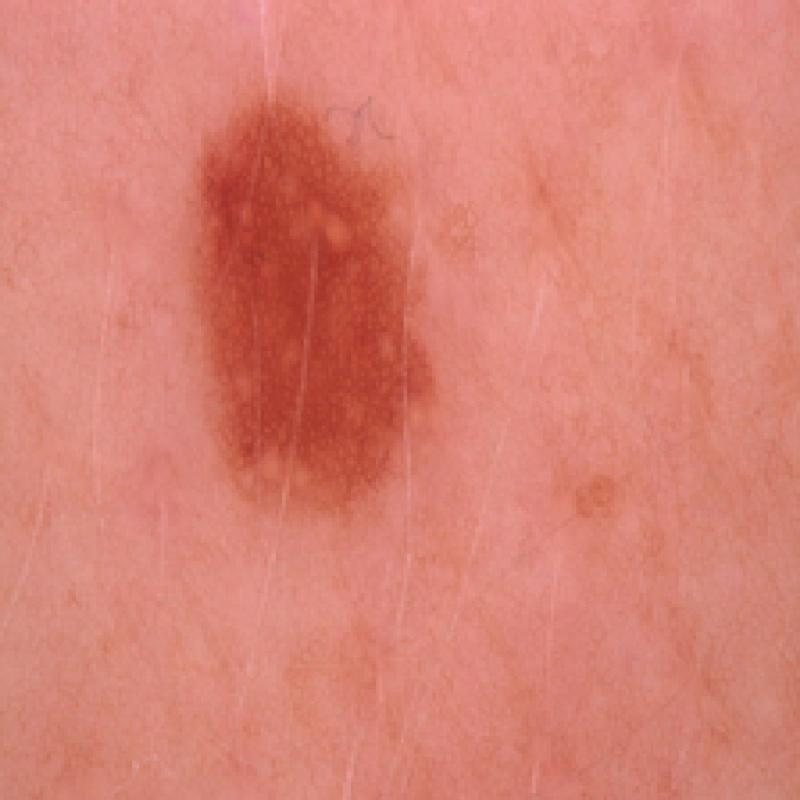benign: (184, 86, 476, 548)
